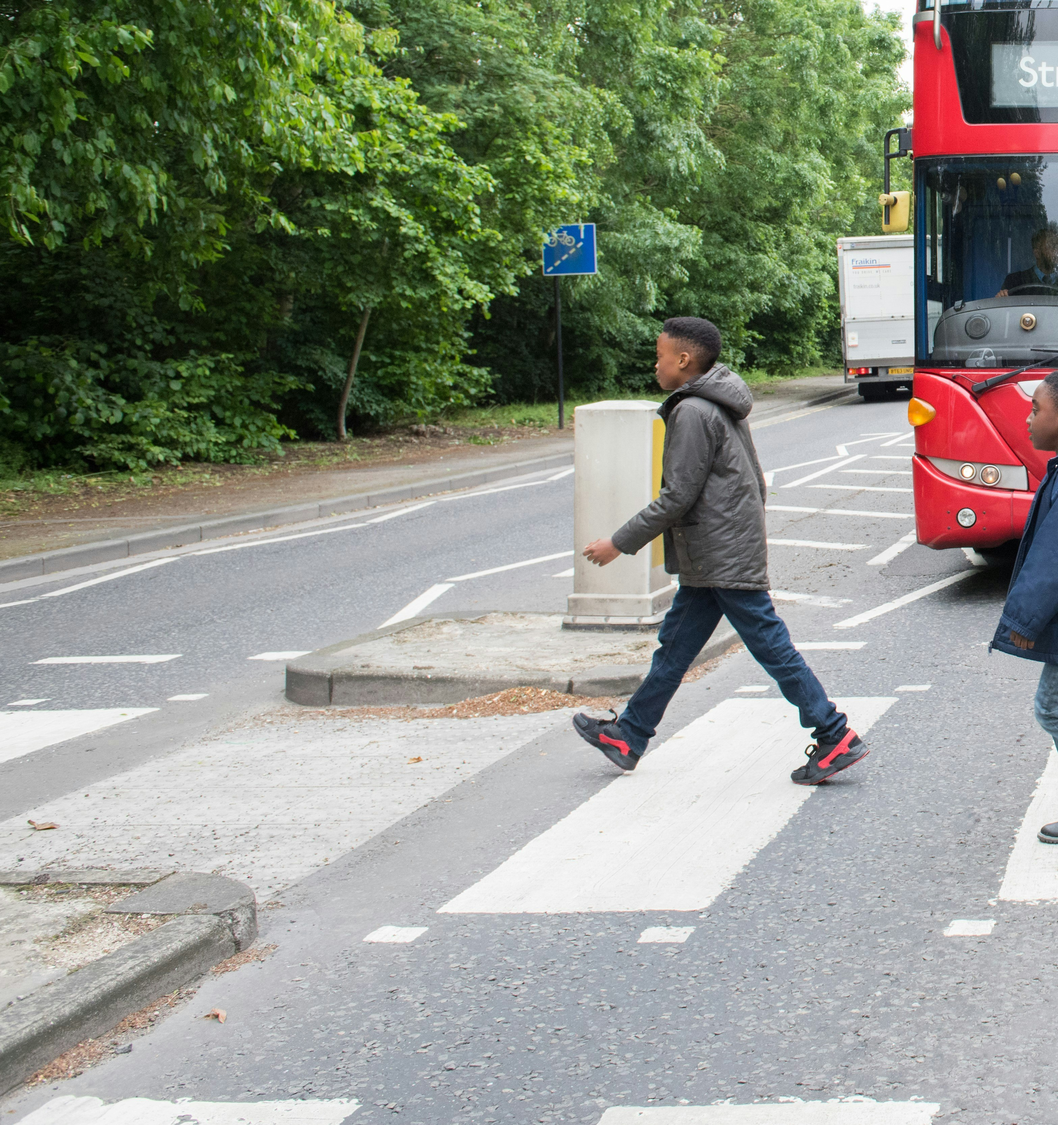Crosswalk: (262, 775, 1058, 960)
Person: (586, 314, 884, 791)
Tree: (0, 0, 364, 435), (247, 0, 515, 397)
